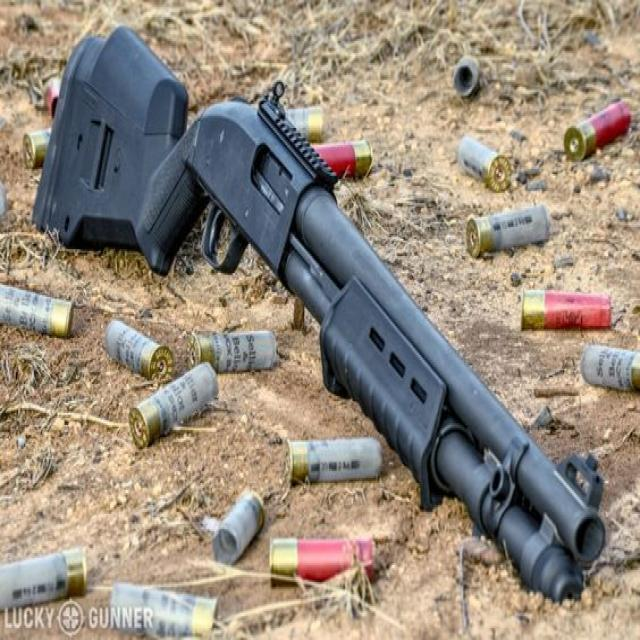shotgun: (22, 11, 640, 609)
